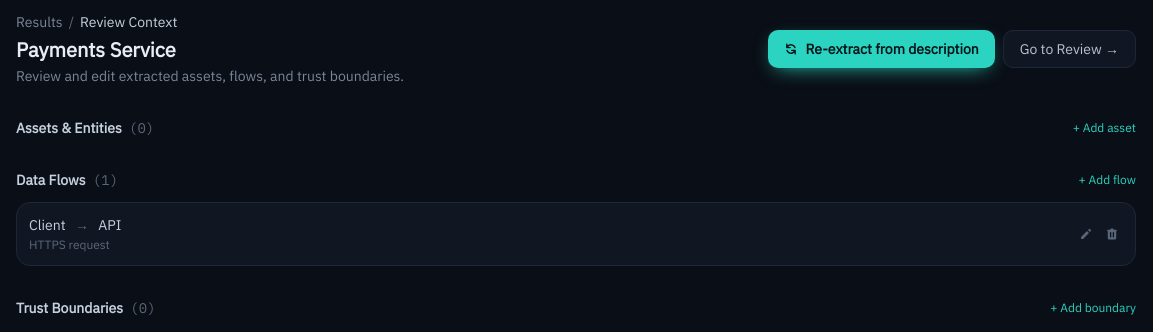
ReviewContext — flows CRUD › deletes a flow
The image size is (1153, 332).
Expected: the text "HTTPS request" is shown, [29,237,121,253]
Click the button named "Delete flow from Client to API".
click(1112, 234)  # box [1101,223,1123,245]
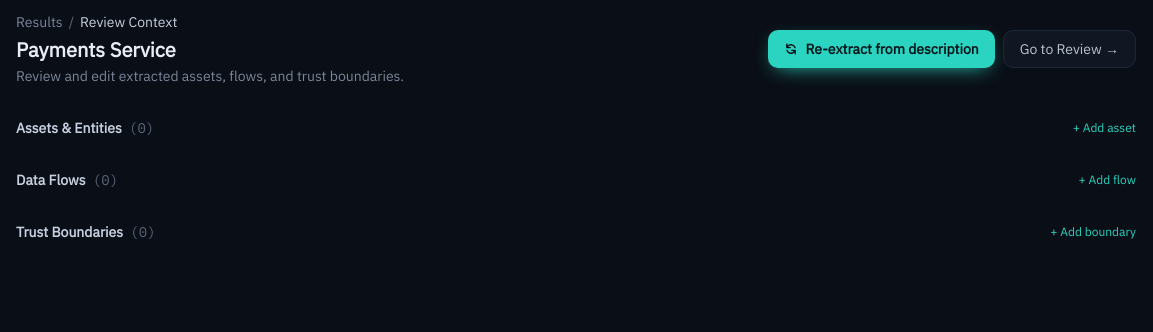
Expected: the text "HTTPS request" is gone
